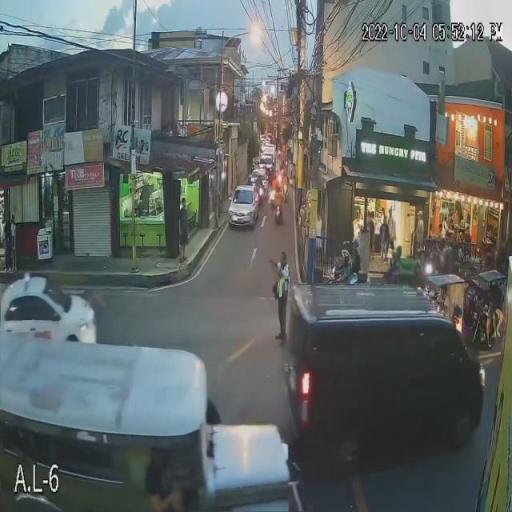helmet: (340, 249, 352, 265), (352, 238, 360, 248), (343, 240, 350, 249), (275, 184, 282, 192)
motorcycle: (325, 274, 361, 284), (274, 204, 282, 226)
rider: (335, 265, 351, 281), (353, 249, 363, 272), (273, 193, 283, 208)
